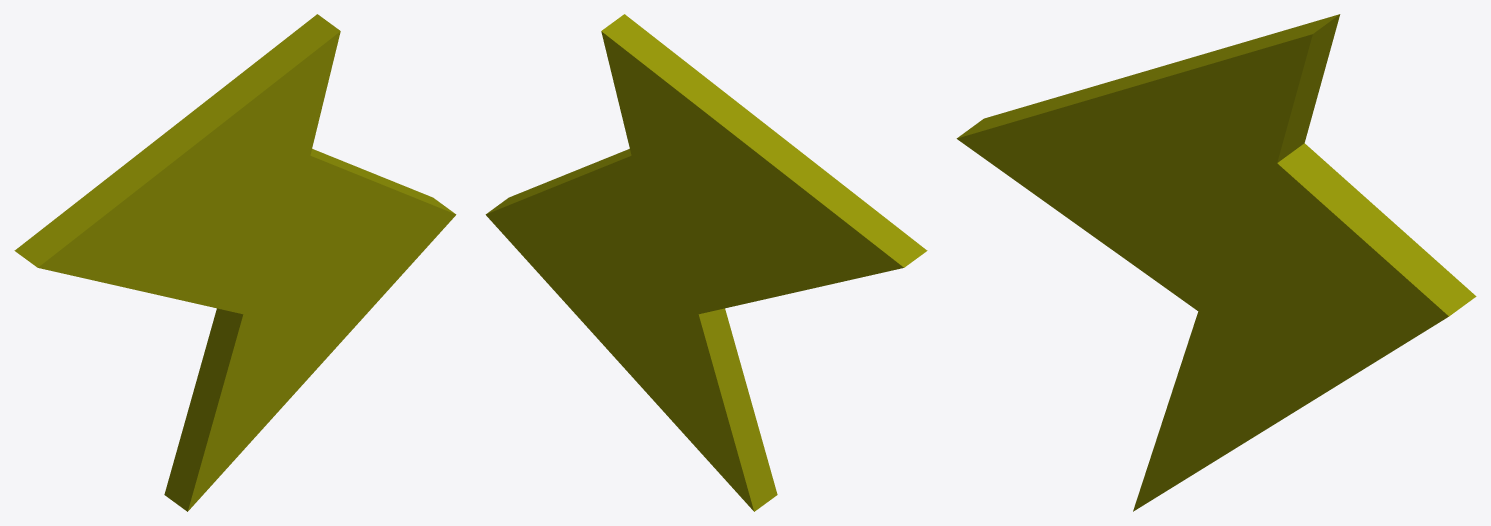
The model's file is _ightning.fbx.
The picture shows the model from 3 angles, left to right: view 1: azimuth 30°, elevation 25°; view 2: azimuth 150°, elevation 25°; view 3: azimuth 330°, elevation 25°; orthographic projection. The views are drawn at different scales.
Visible parts, largest first — view 1: Line001; view 2: Line001; view 3: Line001.
Boxes of the visible parts, bbox=[...] form: Line001: bbox=[14, 14, 456, 511]; Line001: bbox=[485, 14, 927, 511]; Line001: bbox=[956, 14, 1476, 511].
Size of the model in its own units: 140 by 142 by 13.5.
